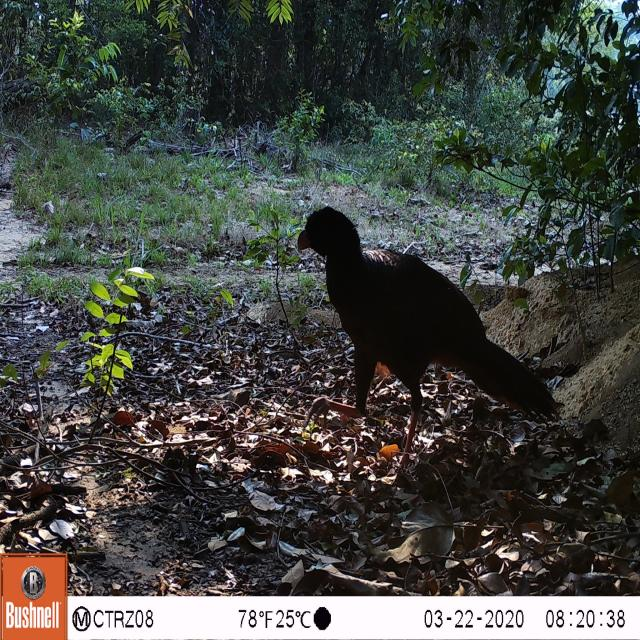Salvins Curassow: (275, 177, 575, 510)
